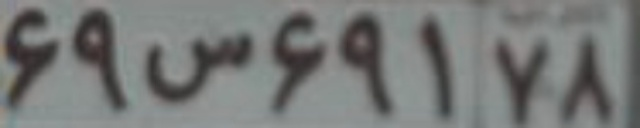1: (415, 13, 454, 116)
6: (265, 9, 330, 113), (4, 9, 57, 110)
7: (495, 35, 554, 126)
8: (559, 32, 613, 124)
9: (71, 8, 126, 111), (336, 15, 393, 113)
sin: (151, 29, 252, 99)
